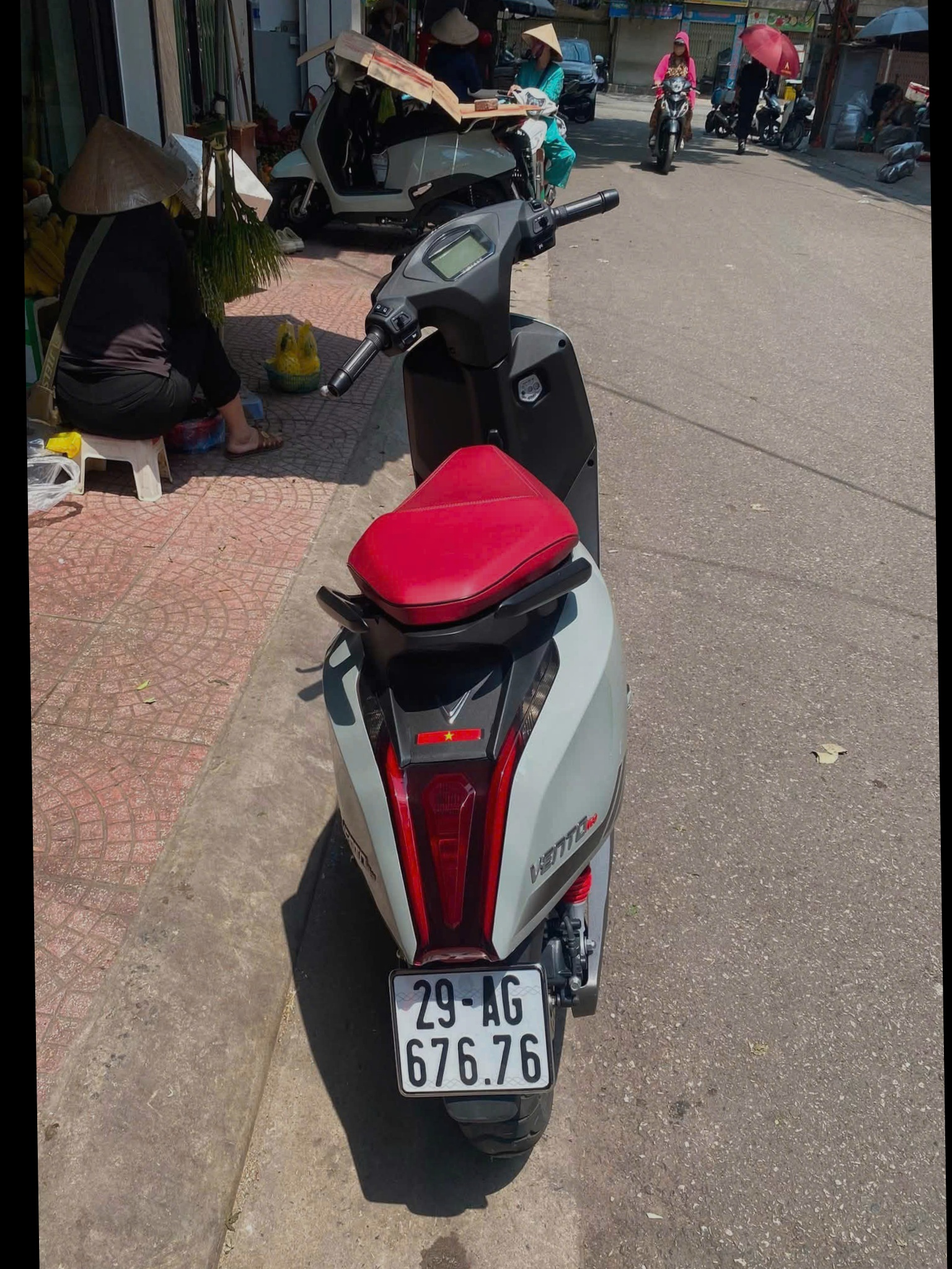Bien-so: (315, 887, 513, 1021)
